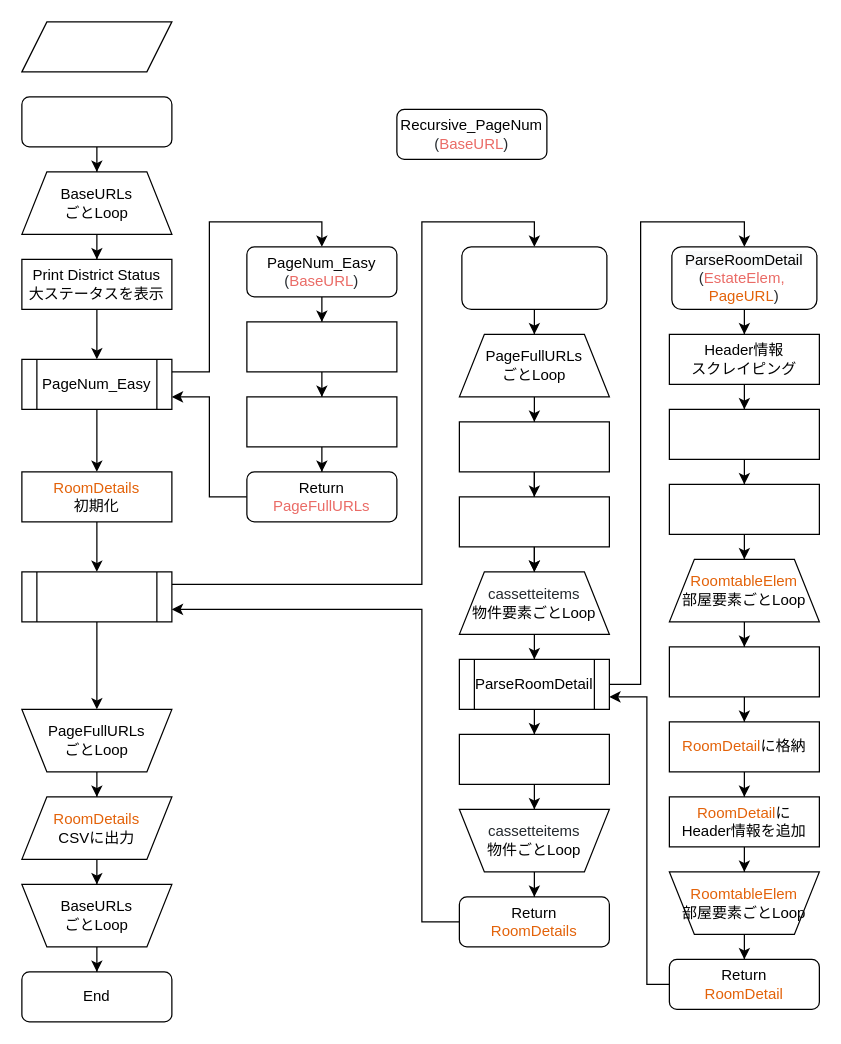
Some shapes in this 841 by 1044 pixel diagram are drawn without their labels. Here are the shapes that lost their labels. From the top down, the box of each, then its label:
(21, 21, 172, 72): BaseURLs
(21, 96, 172, 147): Start
(461, 246, 607, 309): Parsedistrict ( PageFullURLs, RoomDetails )
(246, 321, 397, 372): 最大Page数を取得
(246, 396, 397, 447): 各ページのURL作成
(668, 408, 819, 459): 部屋ごとの HTML取得
(458, 421, 609, 472): Print Room Detail Status 小ステータスを表示
(458, 496, 609, 547): ページ内の 物件ごとのHTML取得
(668, 483, 819, 534): RoomDetail 初期化
(21, 571, 172, 622): Parsedistrict
(668, 646, 819, 697): 部屋情報 スクレイピング
(458, 733, 609, 784): RoomDetailsに格納
